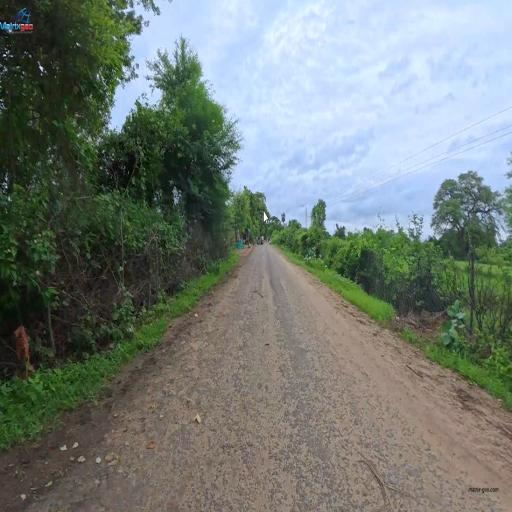ravelling: (229, 300, 331, 494)
